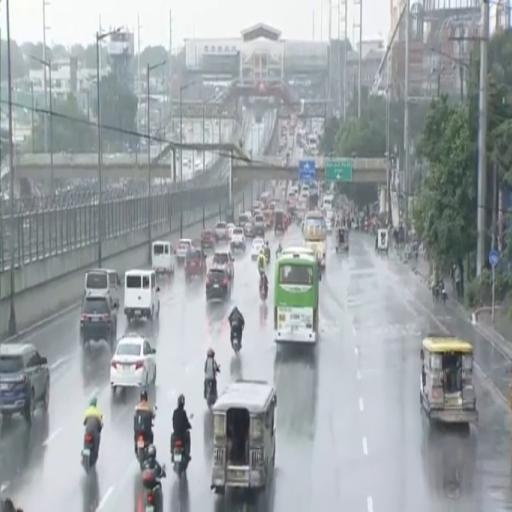bus: (274, 252, 320, 343), (303, 212, 327, 269)
car: (0, 344, 49, 423), (110, 333, 156, 391), (80, 297, 117, 348), (206, 268, 232, 301), (185, 248, 206, 281), (212, 251, 234, 279), (176, 238, 192, 263), (231, 228, 246, 251), (253, 214, 266, 238), (251, 238, 264, 260), (201, 230, 215, 249), (215, 221, 227, 241), (237, 213, 251, 228), (227, 223, 235, 240)
jeepney: (211, 380, 276, 492), (420, 335, 477, 424)
motorcycle: (142, 470, 163, 511), (81, 434, 97, 473), (172, 438, 188, 476), (136, 432, 149, 470), (137, 434, 148, 470), (230, 321, 240, 354), (433, 283, 447, 303), (259, 277, 267, 301), (265, 248, 270, 265), (217, 366, 220, 373)
